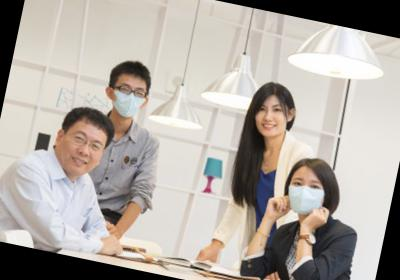with_mask: (283, 172, 330, 221), (105, 78, 150, 123)
without_mask: (54, 123, 110, 181), (253, 99, 291, 141)
